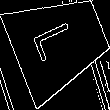L_NE: (33, 19, 86, 67)
